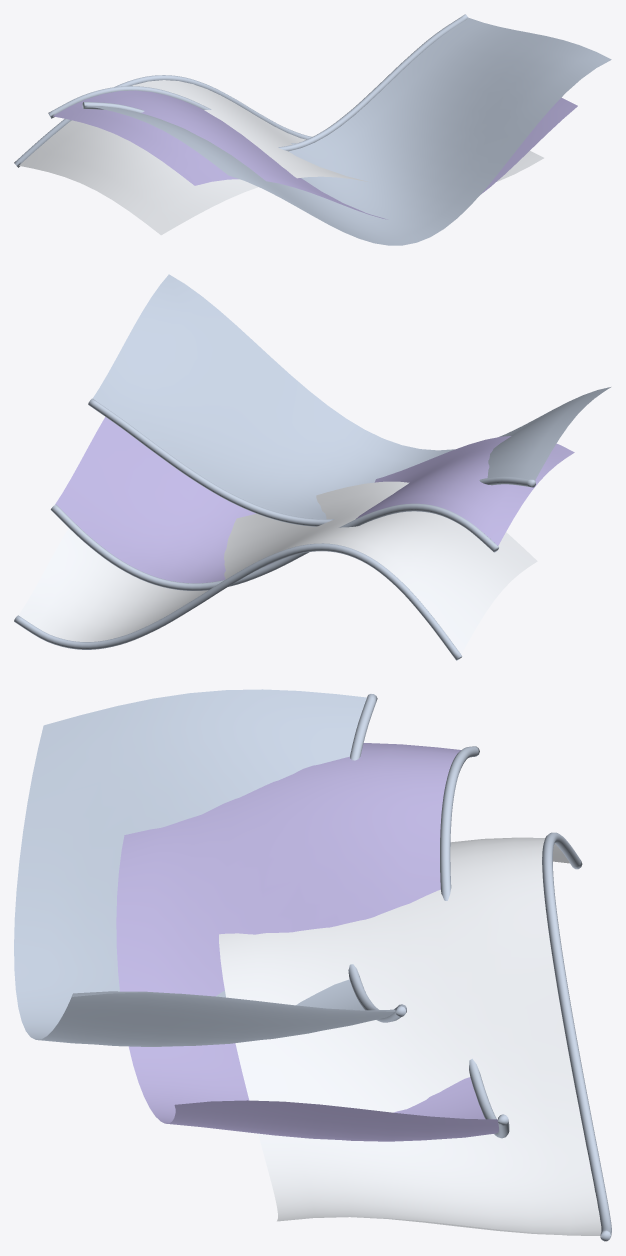
Rendered from styling.glb.
3 renders of one model, top to bottom at view 1: azimuth 30°, elevation 25°; view 2: azimuth 150°, elevation 25°; view 3: azimuth 270°, elevation 25°, orthographic. The views are drawn at different scales.
Visible parts, largest first — view 1: Bias_alloy, Bias_porcelain, Bias_silk; view 2: Bias_alloy, Bias_porcelain, Bias_silk; view 3: Bias_porcelain, Bias_alloy, Bias_silk.
Boxes of the visible parts, <box> form: Bias_alloy: <box>14,14,611,245</box>; Bias_porcelain: <box>19,80,543,235</box>; Bias_silk: <box>53,90,577,219</box>; Bias_alloy: <box>14,274,610,660</box>; Bias_porcelain: <box>18,481,537,654</box>; Bias_silk: <box>55,417,574,583</box>; Bias_porcelain: <box>219,837,602,1236</box>; Bias_alloy: <box>14,689,611,1241</box>; Bias_silk: <box>116,743,498,1141</box>.
Bounding box in the file's own units: 1.41 × 0.5931 × 1.11.
